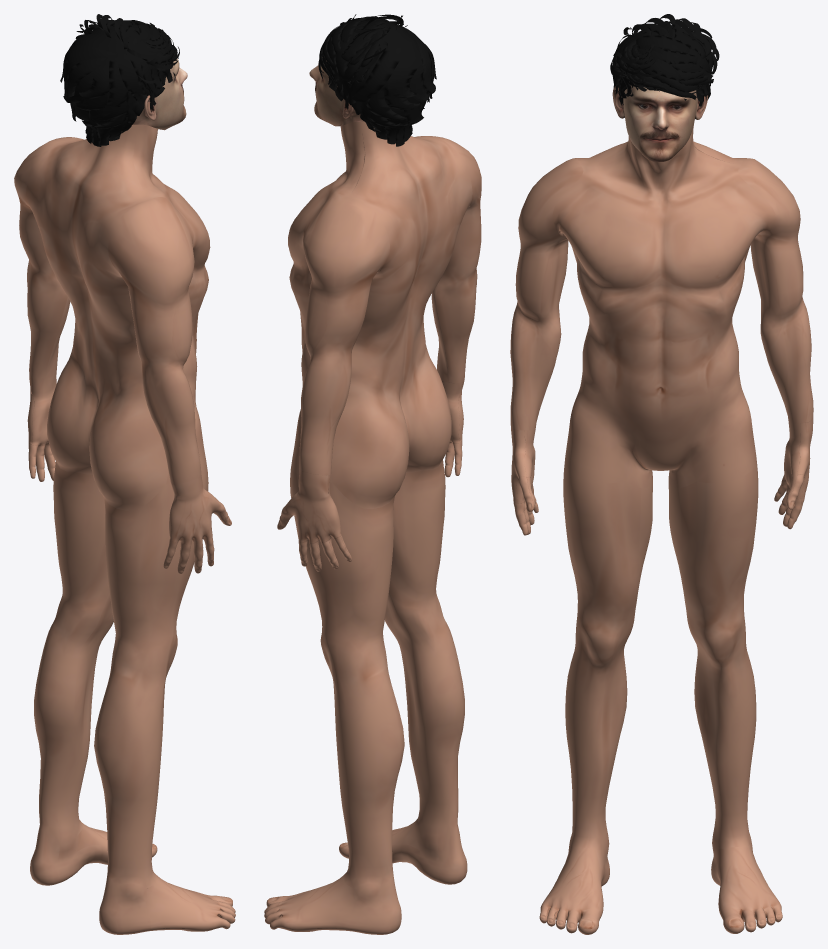
The model's file is MaleMain.fbx.
3 renders of one model, left to right at view 1: azimuth 30°, elevation 25°; view 2: azimuth 150°, elevation 25°; view 3: azimuth 270°, elevation 25°, orthographic.
Visible parts, largest first — view 1: Male_Body_LowPoly; view 2: Male_Body_LowPoly; view 3: Male_Body_LowPoly.
Part boxes in pixels (<box>): Male_Body_LowPoly: <box>14,14,235,934</box>; Male_Body_LowPoly: <box>264,14,481,934</box>; Male_Body_LowPoly: <box>510,14,813,934</box>.
Size of the model in its own units: 45.76 by 298 by 92.94.
